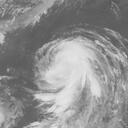cyclone: (34, 36, 103, 111)
